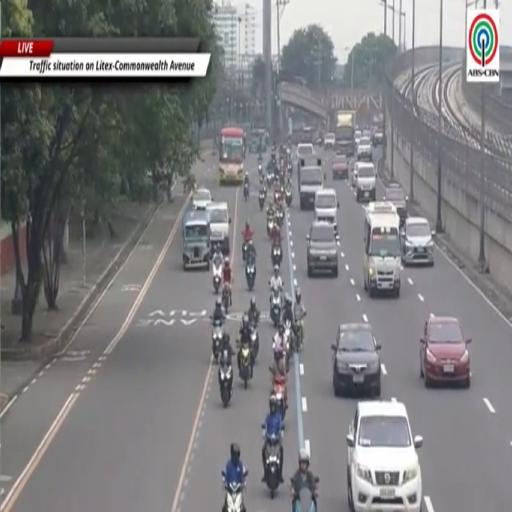bus: (219, 127, 245, 184)
car: (346, 400, 423, 511), (420, 315, 471, 388), (331, 323, 380, 397), (306, 221, 338, 277), (400, 217, 435, 266), (384, 183, 408, 226), (356, 162, 376, 202), (192, 188, 212, 210), (356, 137, 373, 161), (332, 155, 348, 179), (297, 143, 314, 161), (323, 132, 335, 150), (350, 160, 357, 187), (372, 130, 383, 147), (354, 130, 362, 145), (363, 130, 371, 137)
jeepney: (183, 211, 210, 269)
motorcycle: (262, 425, 280, 499), (222, 472, 245, 511), (273, 376, 287, 421), (219, 364, 232, 407), (294, 488, 317, 511), (239, 344, 250, 389), (212, 319, 223, 362), (270, 290, 281, 328), (245, 258, 255, 291), (285, 320, 291, 372), (251, 324, 259, 361), (213, 263, 222, 294), (295, 320, 303, 353), (222, 283, 230, 313), (271, 246, 282, 266), (276, 208, 284, 227), (267, 217, 274, 236), (259, 189, 265, 211), (285, 188, 292, 206), (242, 242, 248, 261), (274, 190, 281, 203), (244, 183, 249, 201), (267, 172, 273, 186), (288, 162, 292, 175), (258, 164, 262, 174)
truck: (335, 111, 356, 156)
